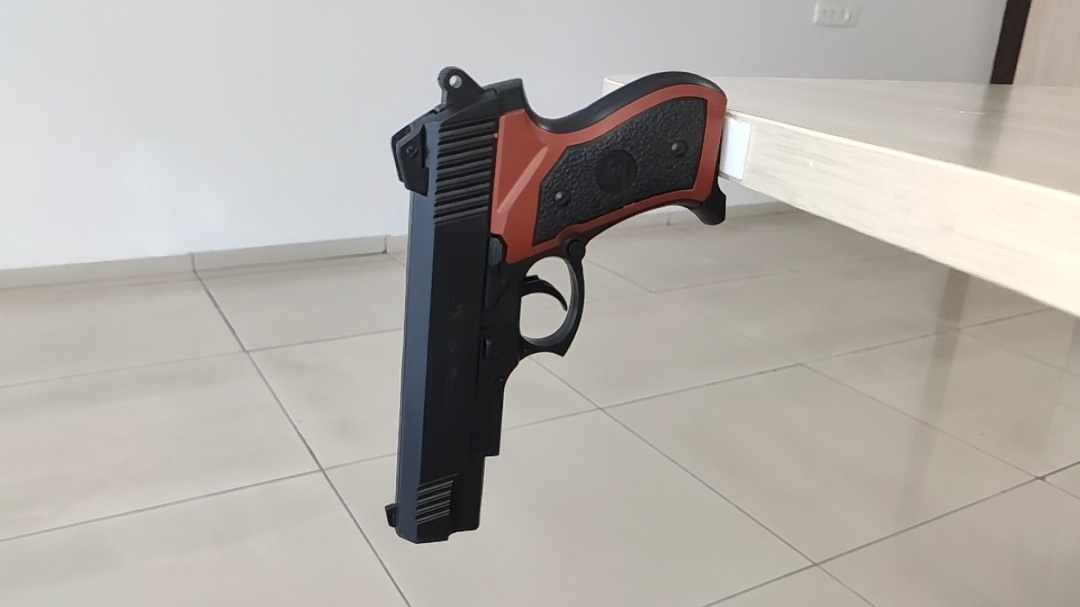gun: (559, 224, 720, 296)
